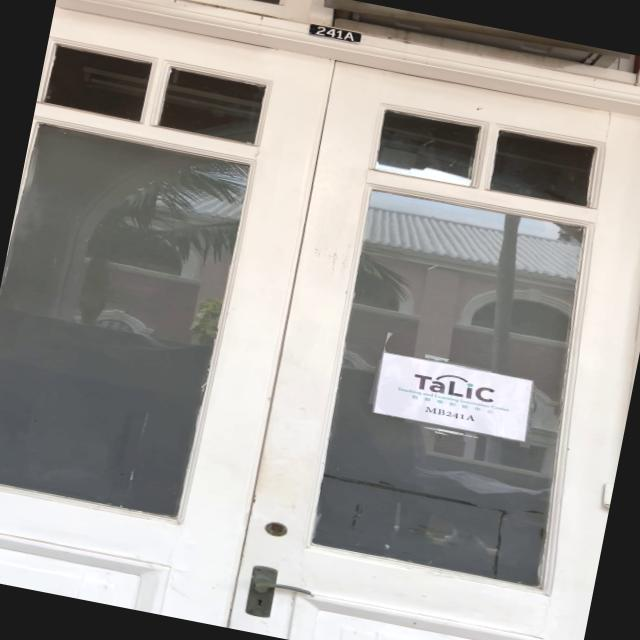room241a: (306, 20, 364, 48)
